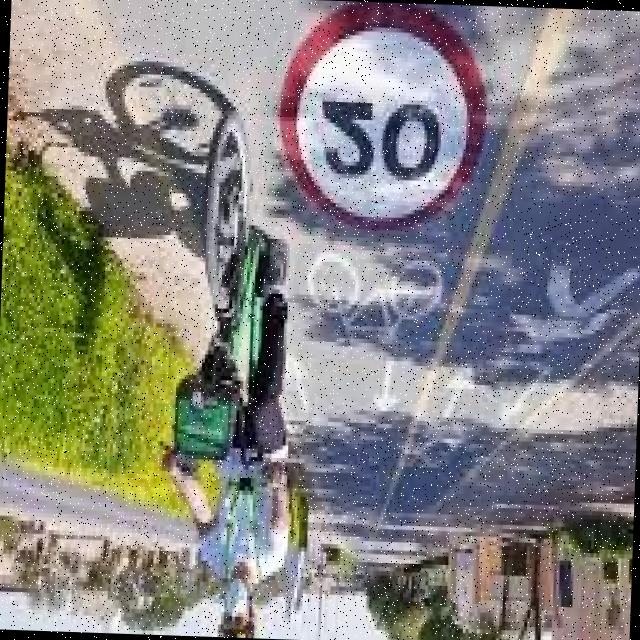speed_limit_20: (270, 0, 493, 241)
